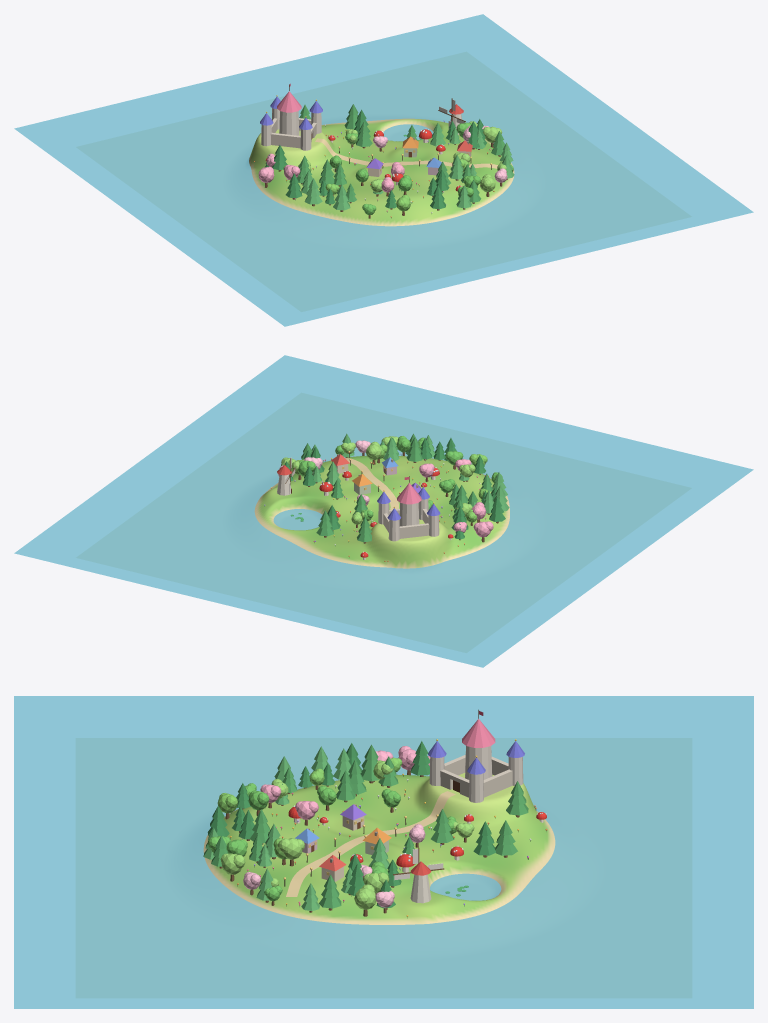
Rendered from merchen_village.glb.
The picture shows the model from 3 angles, top to bottom: view 1: azimuth 30°, elevation 25°; view 2: azimuth 150°, elevation 25°; view 3: azimuth 270°, elevation 25°; orthographic projection. The views are drawn at different scales.
Visible parts, largest first — view 1: Water, Terrain, Trees, Castle, Houses, Path; view 2: Water, Terrain, Trees, Castle, Houses; view 3: Water, Terrain, Trees, Castle, Houses, Path, Mushrooms, Windmill.
Part boxes in pixels (x1,y1,x2,y2): Water: [14, 14, 753, 326]; Terrain: [77, 52, 690, 311]; Trees: [258, 104, 514, 218]; Castle: [260, 83, 322, 150]; Houses: [366, 136, 472, 176]; Path: [315, 138, 497, 168]; Water: [14, 355, 753, 667]; Terrain: [77, 393, 690, 652]; Trees: [278, 433, 509, 543]; Castle: [377, 476, 440, 541]; Houses: [331, 454, 421, 494]; Water: [14, 696, 753, 1008]; Terrain: [76, 738, 691, 997]; Trees: [203, 741, 528, 916]; Castle: [428, 709, 524, 802]; Houses: [295, 804, 391, 881]; Path: [286, 791, 455, 896]; Mushrooms: [288, 805, 546, 872]; Windmill: [410, 861, 431, 903].
Size of the model in its own units: 120 by 21.21 by 120.
